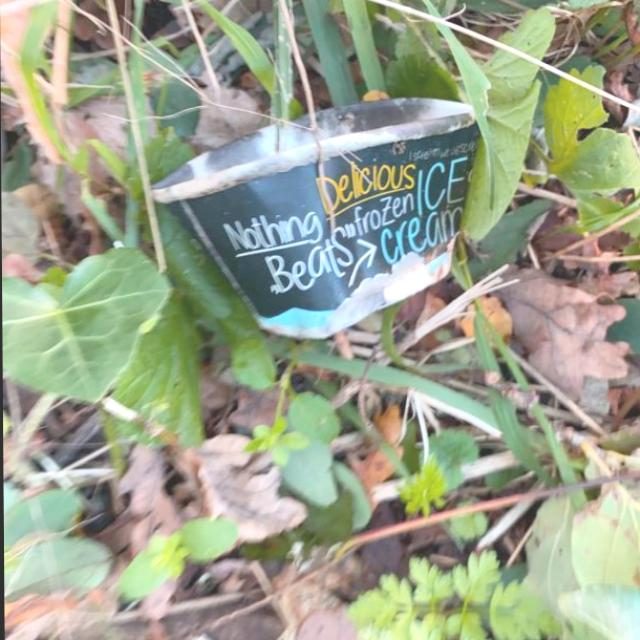Paper: (152, 98, 478, 342)
